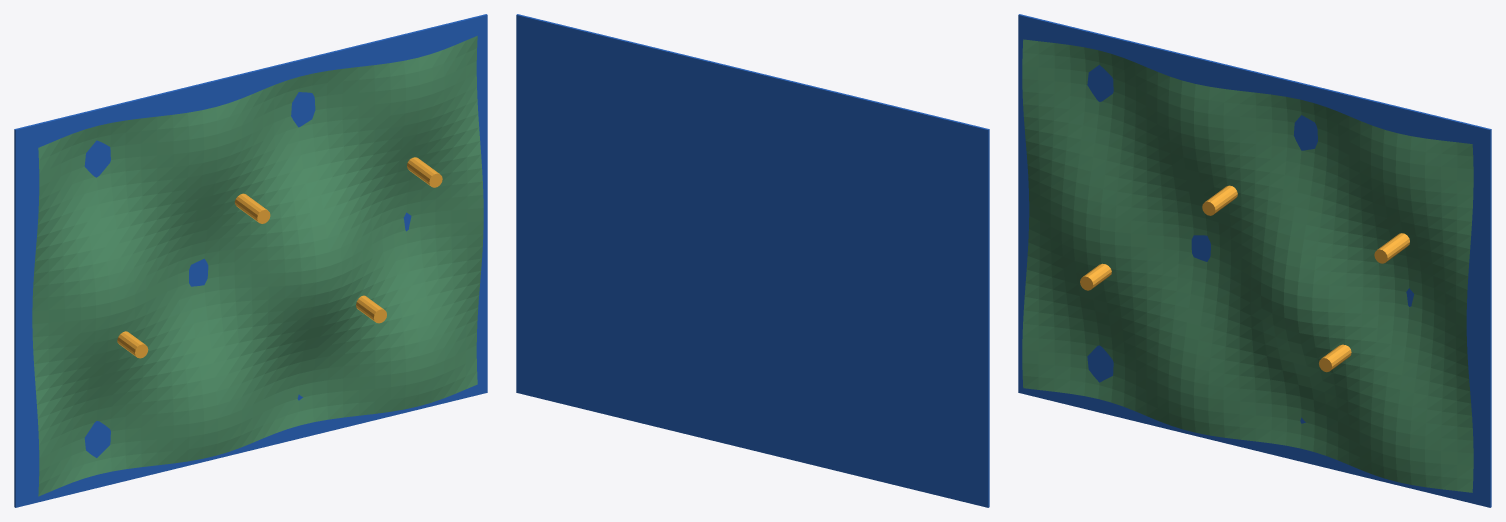
The picture shows the model from 3 angles, left to right: view 1: azimuth 30°, elevation 25°; view 2: azimuth 150°, elevation 25°; view 3: azimuth 330°, elevation 25°; orthographic projection.
Visible parts, largest first — view 1: geospatial-terrain; view 2: geospatial-terrain; view 3: geospatial-terrain.
Part boxes in pixels (x1,y1,x2,y2): geospatial-terrain: (14, 14, 487, 507); geospatial-terrain: (516, 14, 989, 507); geospatial-terrain: (1018, 14, 1491, 507).
Bounding box in the file's own units: 8.5 × 6.5 × 0.94.
